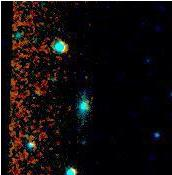star: (72, 63, 102, 93)
